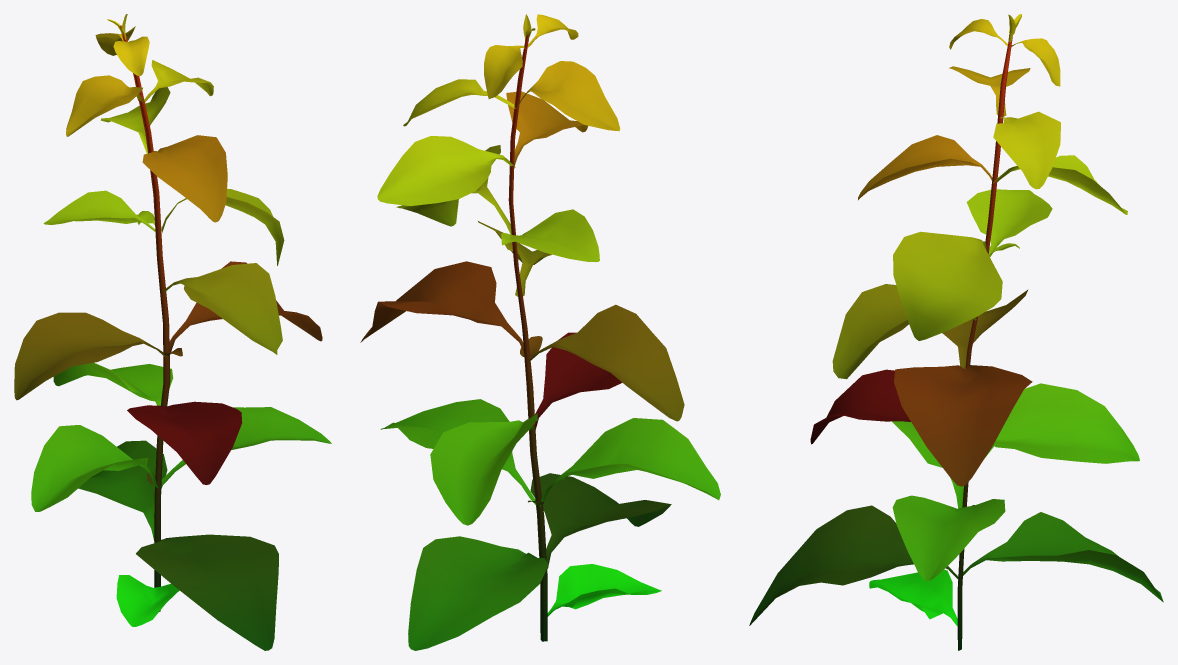
The model's file is SM_OW_Shrub_b_LOD0.fbx.
The picture shows the model from 3 angles, left to right: view 1: azimuth 30°, elevation 25°; view 2: azimuth 150°, elevation 25°; view 3: azimuth 270°, elevation 25°; orthographic projection. The views are drawn at different scales.
Parts seen in each view (by area): view 1: SM_OW_Shrub_b_LOD0; view 2: SM_OW_Shrub_b_LOD0; view 3: SM_OW_Shrub_b_LOD0.
Boxes of the visible parts, box(x1,y1,x2,y2) form: SM_OW_Shrub_b_LOD0: box(14, 14, 331, 650); SM_OW_Shrub_b_LOD0: box(360, 14, 720, 650); SM_OW_Shrub_b_LOD0: box(749, 14, 1163, 650).
Size of the model in its own units: 0.1606 by 0.2939 by 0.1751.
